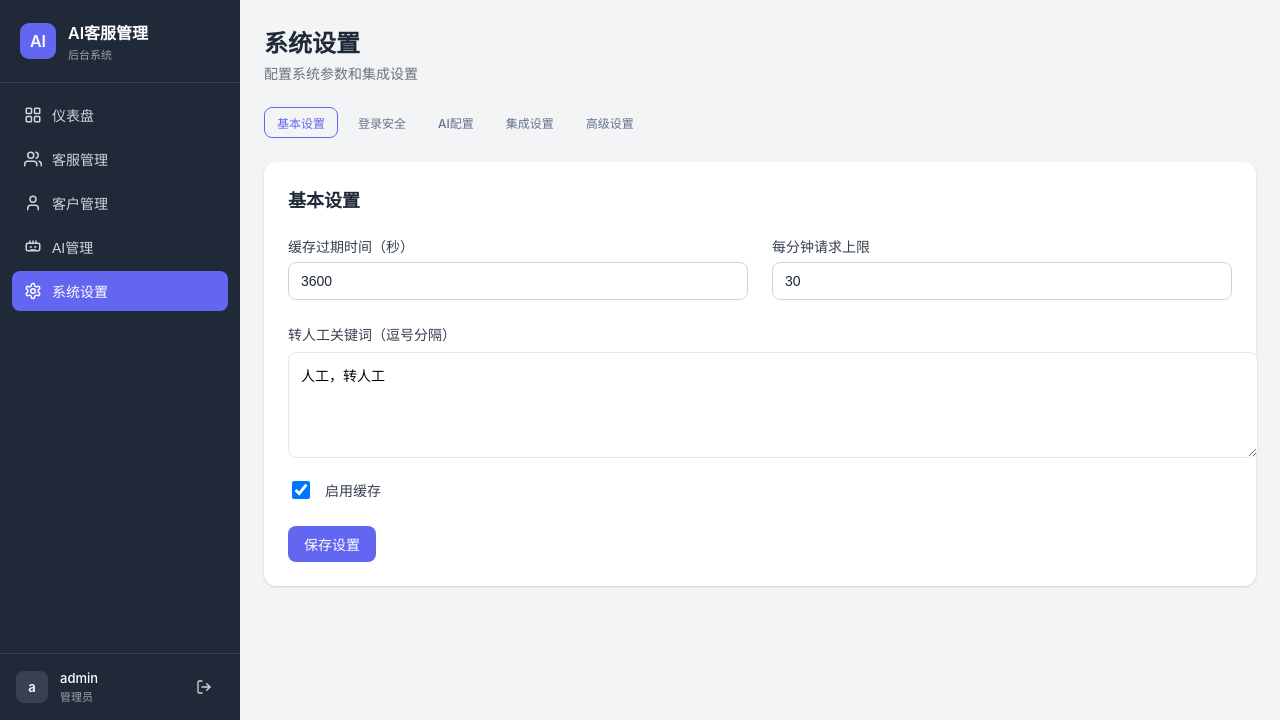
Test case: SettingsPage 系统设置 › 切换到 AI 配置 tab 显示 AI 参数
Check: the text "缓存过期时间（秒）" is shown, box [288, 238, 414, 255]
Click the button "AI配置".
click(456, 122)  # box [426, 107, 486, 138]
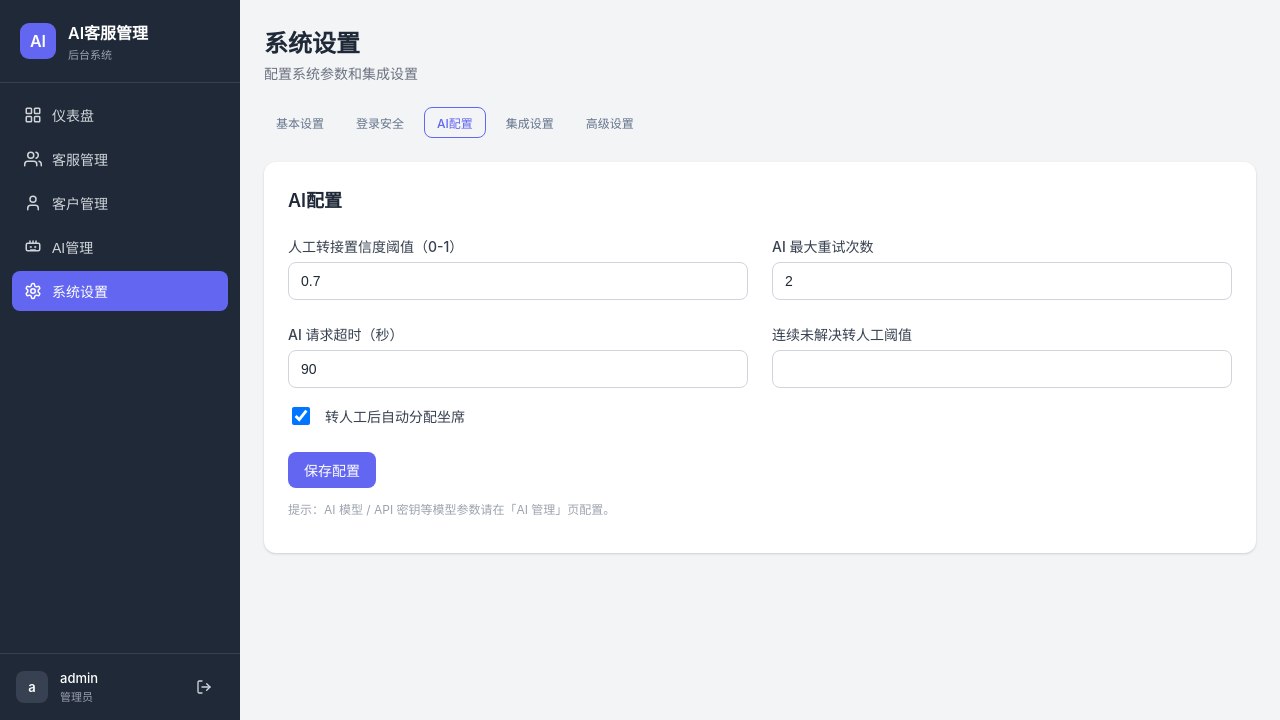
Check: the text "人工转接置信度阈值（0-1）" is shown, box [288, 238, 463, 255]
Check: the number field showing "0.7" is shown, box [289, 263, 747, 299]
